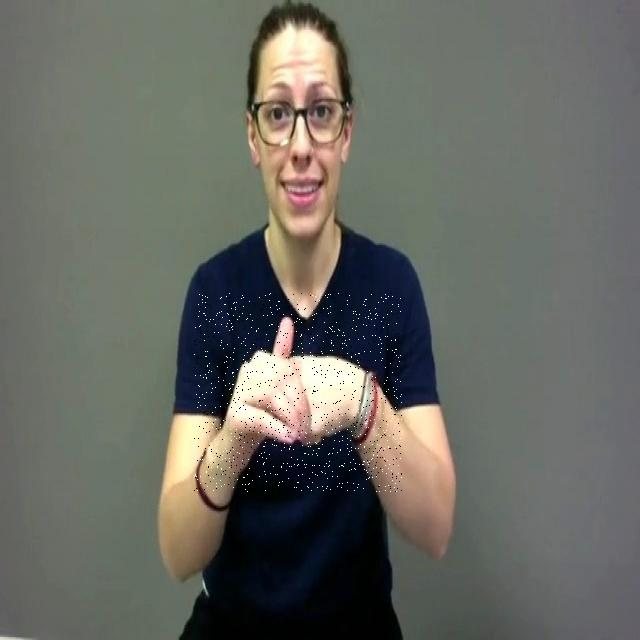bread: (194, 293, 402, 492)
